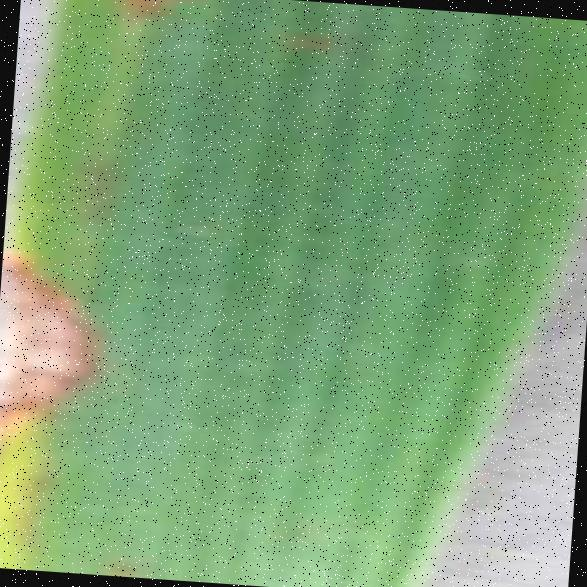Leaf_smut: (0, 222, 128, 471)
